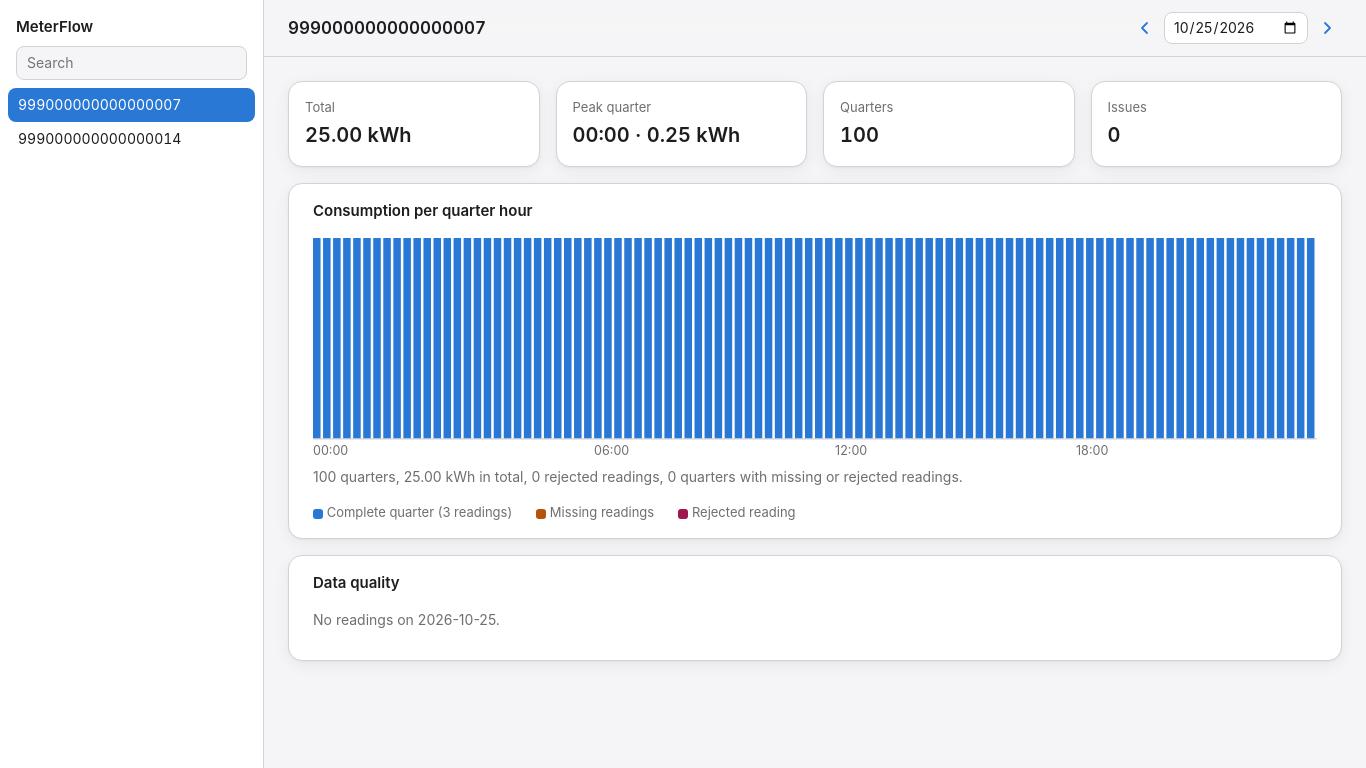
Test: App › filters the meter list by search text and clears it
Step 1. Type "014" into the search field named "Search meters" → (132, 63), box [16,46,247,80]
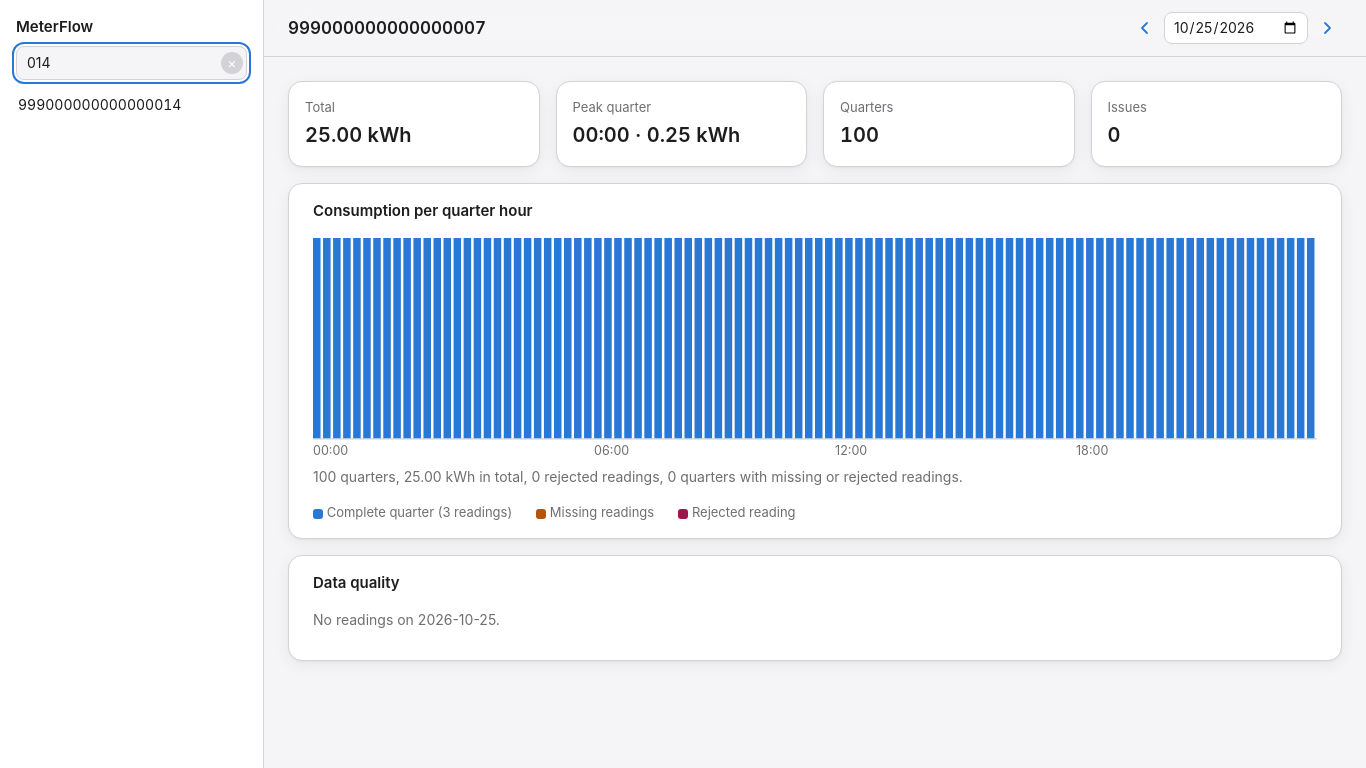
expect the buttons read "999000000000000014", in this order: met, box [8,88,255,122]
Step 2. Click the button named "Clear search" → (232, 63), box [221,52,243,74]
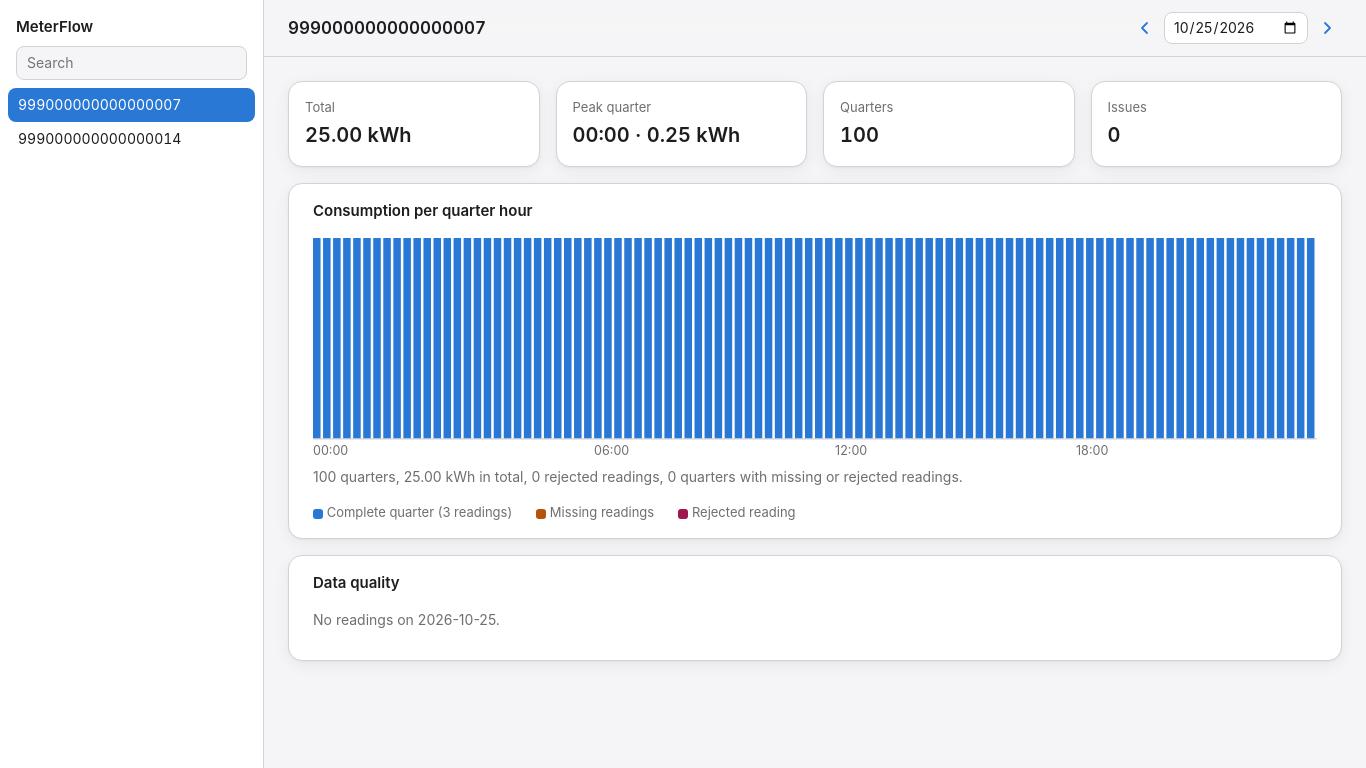
expect the search field named "Search meters" is empty: met, box [16,46,247,80]
